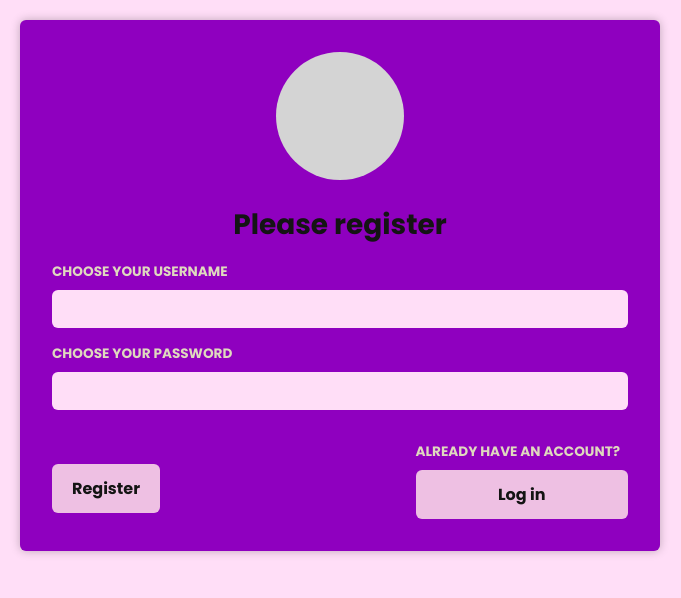
Scenario: Register Component › displays error message with correct styling
Click the button "Register" at (106, 488), box left=52, top=464, right=160, bottom=513
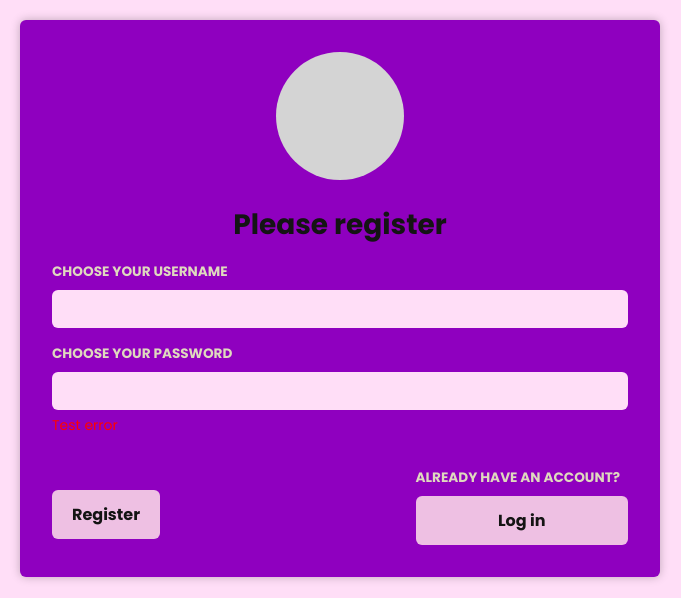
Now the text "Test error" is shown, box left=52, top=415, right=118, bottom=435
